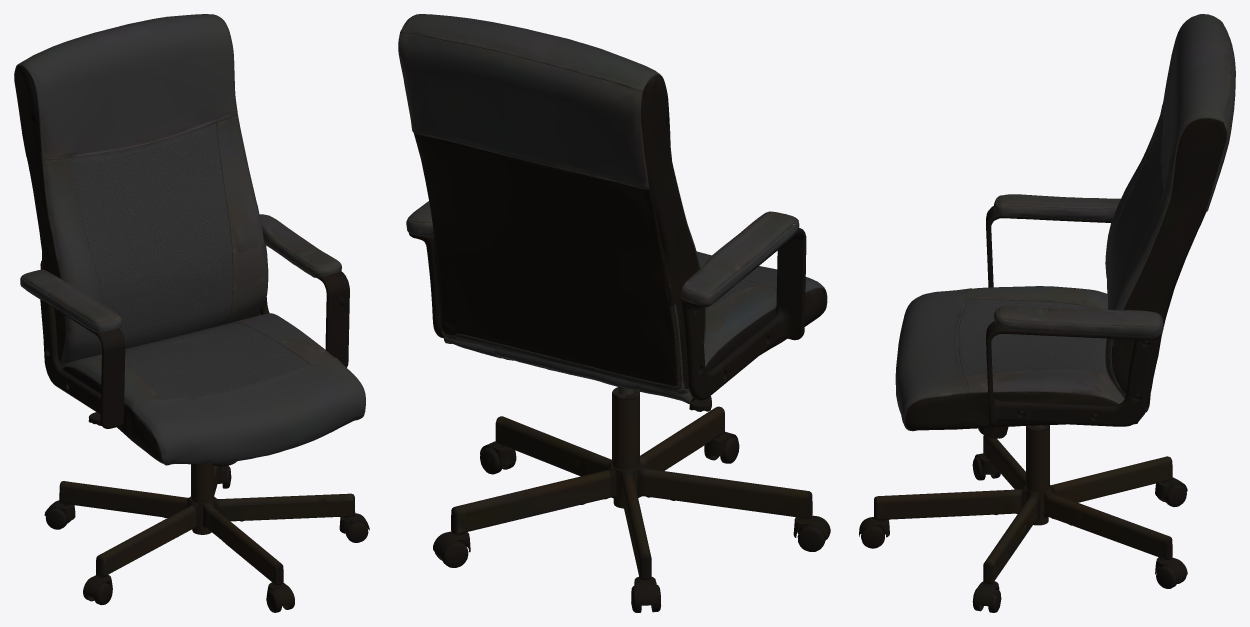
Rendered from 31 - MILLBERGET - 旋轉椅, Murum 黑色 IKEA 線上購物.glb.
3 views of the same model, side by side, from view 1: azimuth 30°, elevation 25°; view 2: azimuth 150°, elevation 25°; view 3: azimuth 270°, elevation 25° (orthographic). The views are drawn at different scales.
Visible parts, largest first — view 1: 70489394-MILLBERGET001; view 2: 70489394-MILLBERGET001; view 3: 70489394-MILLBERGET001.
Part boxes in pixels (x1,y1,x2,y2): 70489394-MILLBERGET001: (14, 14, 369, 612); 70489394-MILLBERGET001: (398, 14, 830, 612); 70489394-MILLBERGET001: (859, 14, 1235, 612).
Bounding box in the file's own units: 0.7138 × 1.12 × 0.78.
2 materials, 2 textured.
